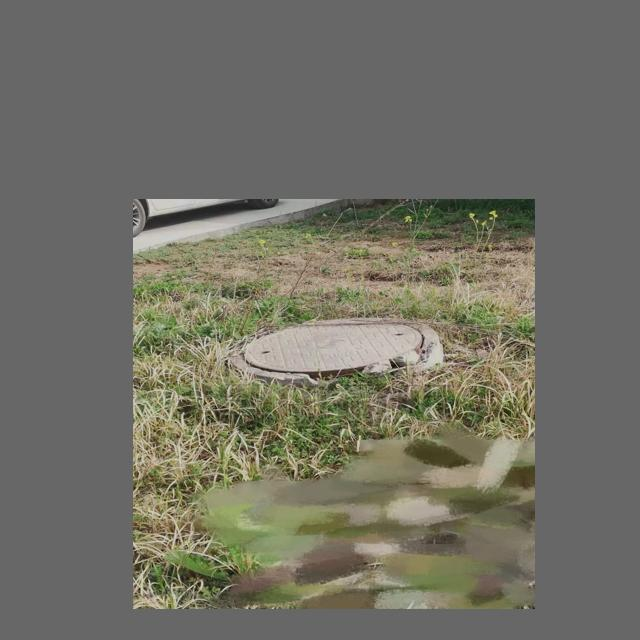circle: (215, 313, 442, 387)
